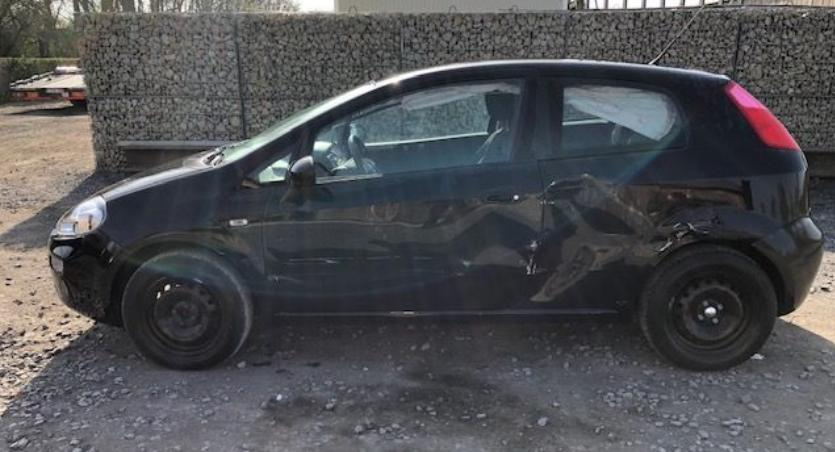Back-bumper: (755, 215, 825, 316)
Back-door: (528, 73, 757, 310)
Back-wheel: (639, 245, 777, 374)
Back-window: (531, 75, 732, 161)
Fender: (102, 167, 271, 314)
Front-bumper: (49, 230, 133, 323)
Front-door: (260, 70, 546, 312)
Front-wheel: (120, 249, 253, 372)
Front-window: (311, 76, 527, 187), (243, 135, 304, 184)
Headlight: (48, 195, 107, 241)
Hood: (89, 145, 226, 202)
Mirror: (280, 155, 317, 220)
Quarter-panel: (742, 143, 814, 238)
Rocker-panel: (267, 308, 639, 316)
Roof: (373, 58, 730, 88)
Tail-light: (724, 79, 800, 152)
Windshield: (206, 80, 376, 169)
